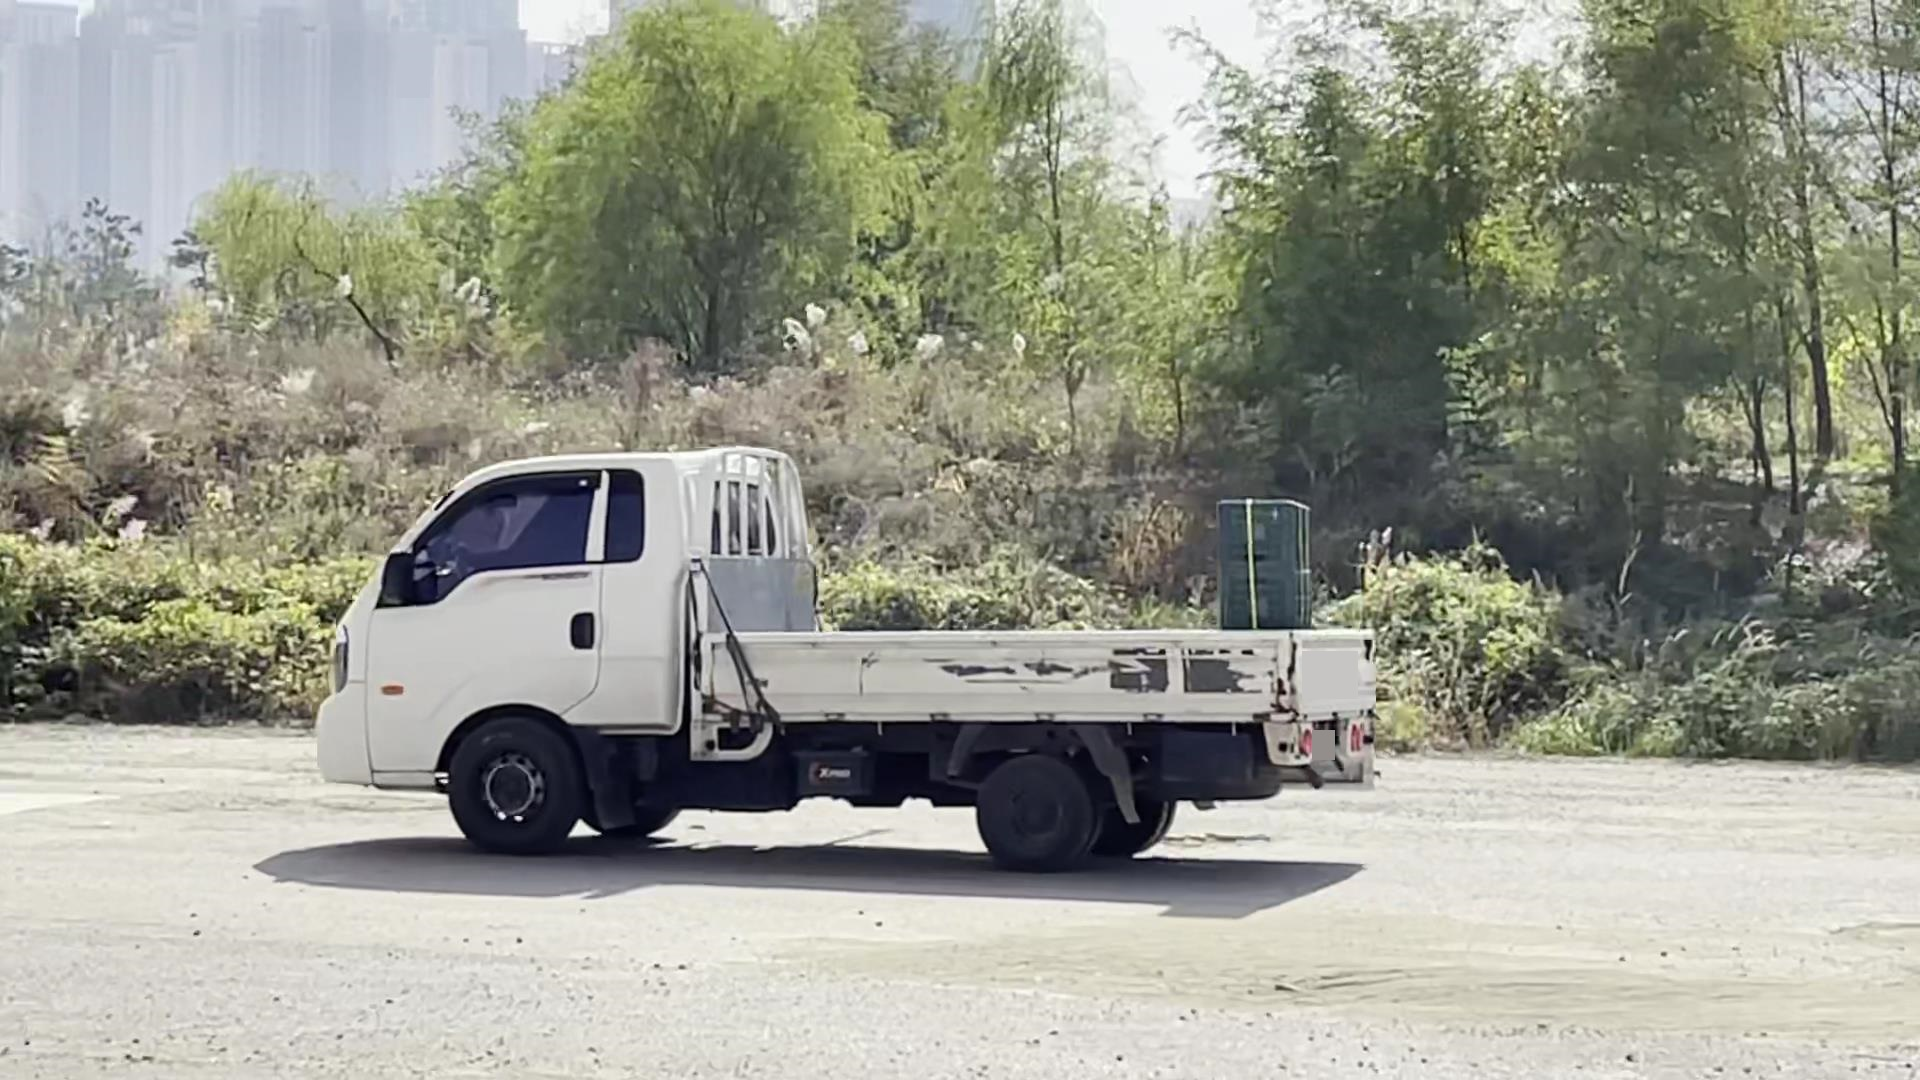불법차량: (315, 444, 1382, 874)
